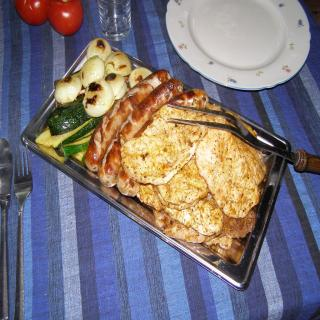tomato: (40, 4, 79, 30), (12, 0, 49, 26)
